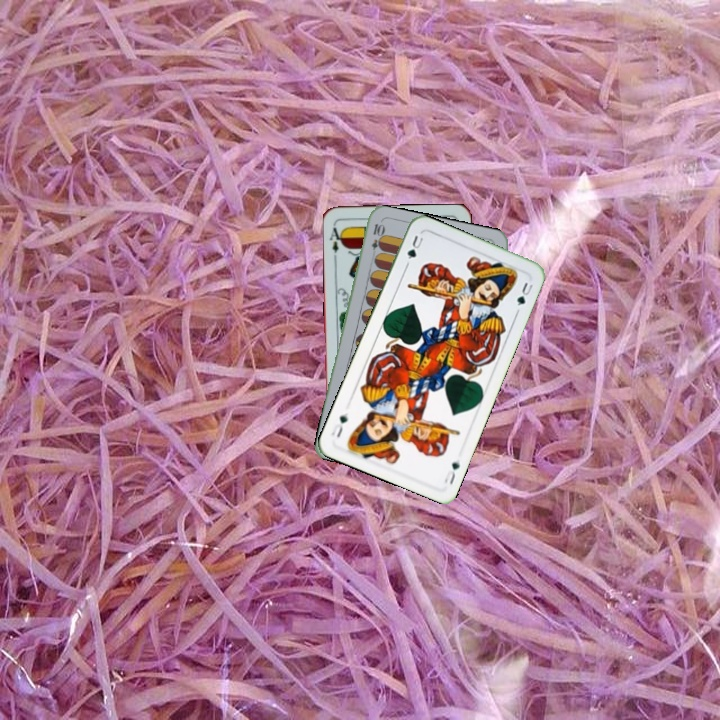E10: (367, 220, 385, 260)
EA: (326, 220, 346, 260)
GU: (403, 231, 426, 262), (440, 458, 462, 487)
